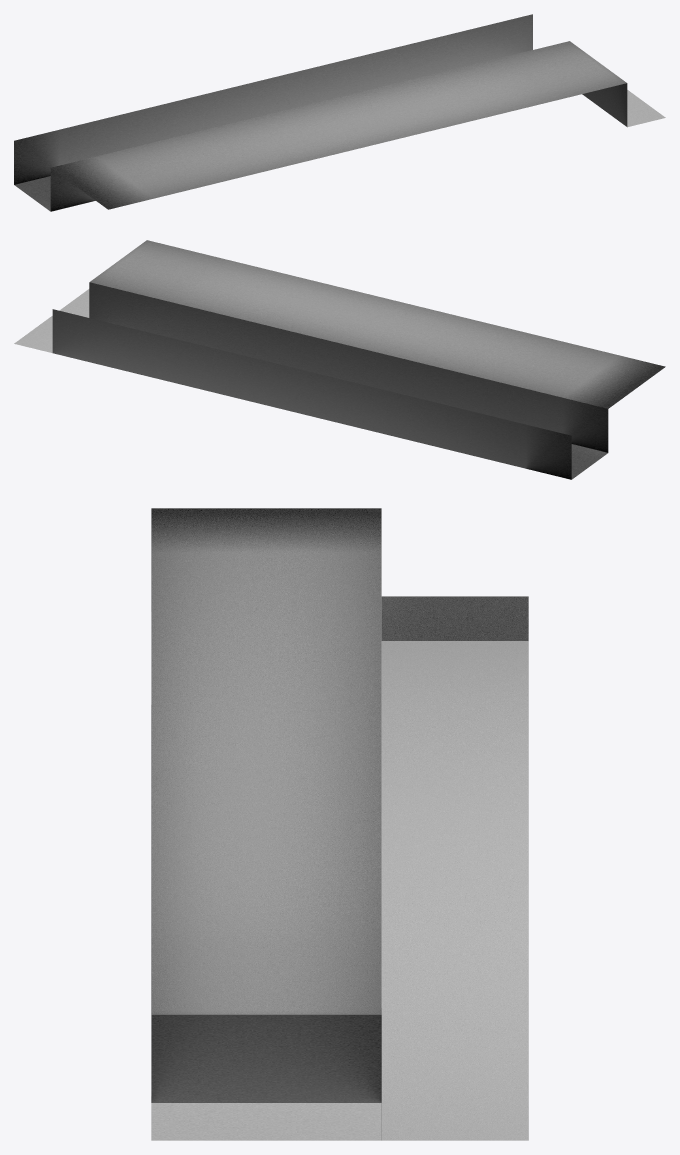
Rendered from hall-ceiling.glb.
The picture shows the model from 3 angles, top to bottom: view 1: azimuth 30°, elevation 25°; view 2: azimuth 150°, elevation 25°; view 3: azimuth 270°, elevation 25°; orthographic projection. The views are drawn at different scales.
Visible parts, largest first — view 1: Plane; view 2: Plane; view 3: Plane.
Part boxes in pixels (x1,y1,x2,y2): Plane: (14,14,665,211); Plane: (14,240,665,479); Plane: (151,508,528,1140).
Bounding box in the file's own units: 4.52 × 0.3418 × 1.32.
Materials: 1 (1 with a texture image).
